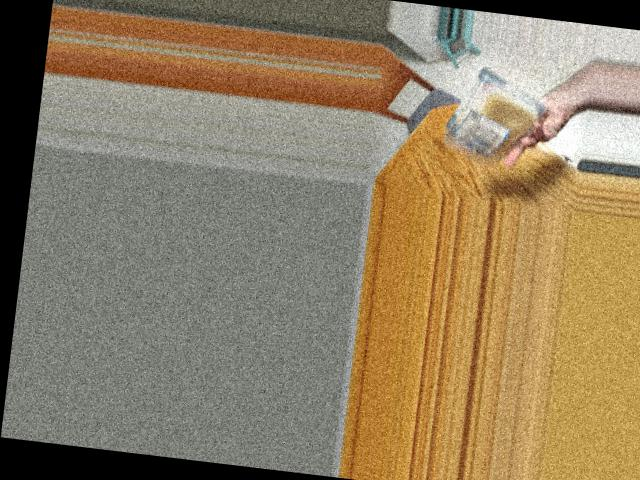cheese: (435, 69, 547, 160)
